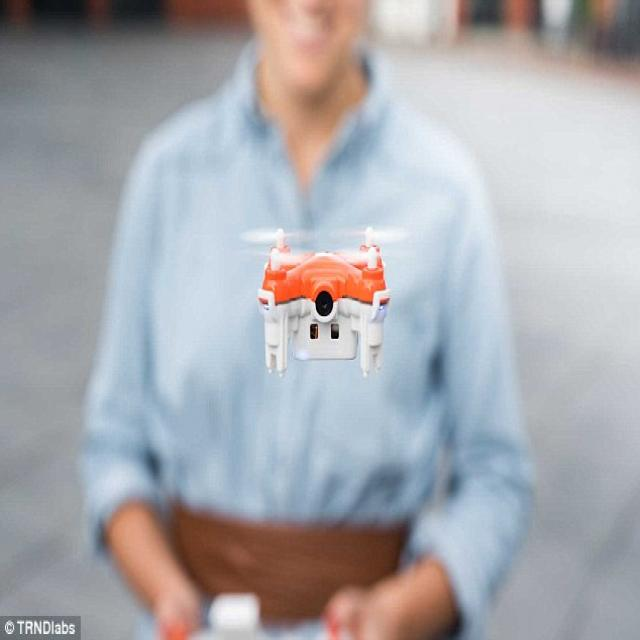drones: (230, 212, 415, 387)
